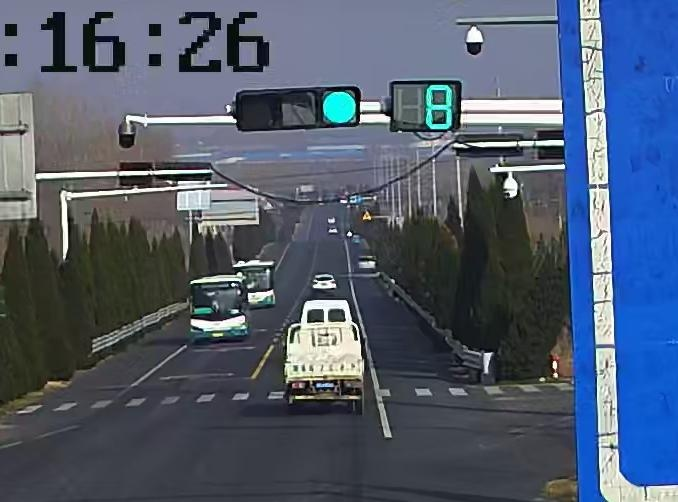green: (323, 87, 357, 127)
greentime: (423, 83, 456, 131)
